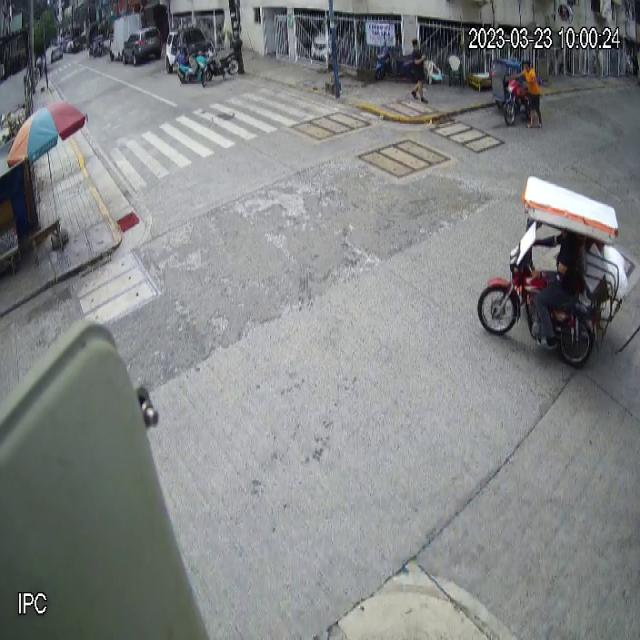Tricycle: (477, 174, 626, 370)
